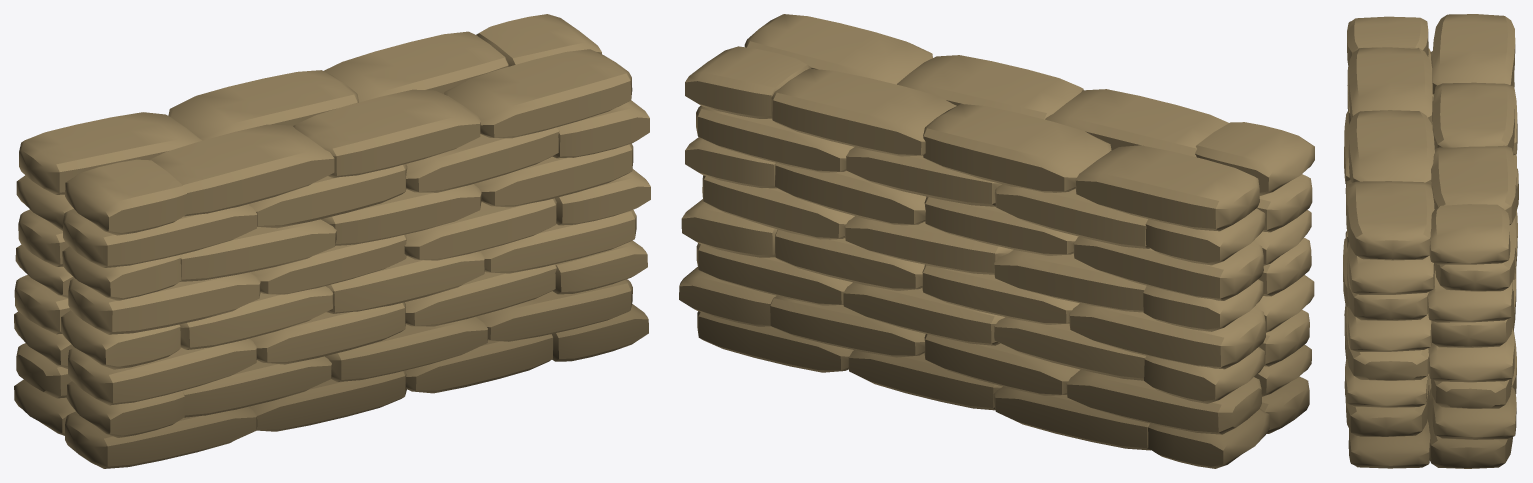
The model's file is sandbag_wall_2m.glb.
3 views of the same model, side by side, from view 1: azimuth 30°, elevation 25°; view 2: azimuth 150°, elevation 25°; view 3: azimuth 270°, elevation 25° (orthographic). The views are drawn at different scales.
Visible parts, largest first — view 1: sandbag_wall_2m_LOD0; view 2: sandbag_wall_2m_LOD0; view 3: sandbag_wall_2m_LOD0.
Part boxes in pixels (x1,y1,x2,y2): sandbag_wall_2m_LOD0: (14,14,650,468); sandbag_wall_2m_LOD0: (679,14,1314,468); sandbag_wall_2m_LOD0: (1343,14,1518,468).
Size of what is drawn, in the model's own units: 2.09 by 0.9801 by 0.6563.
